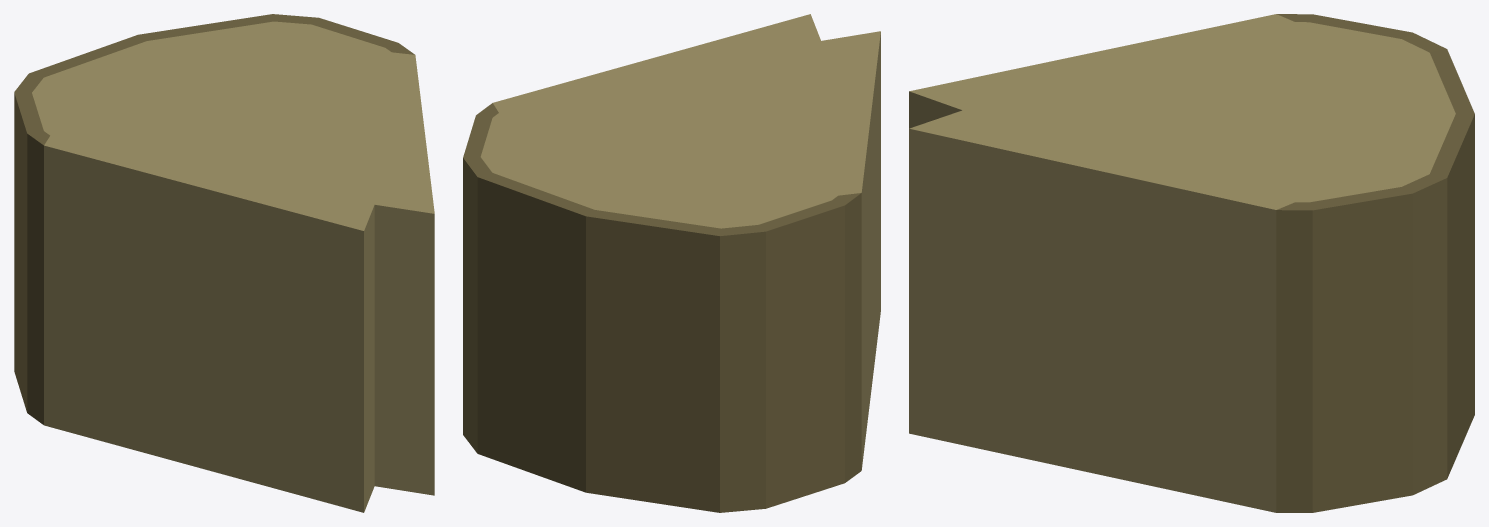
File: Trunk.fbx
3 views of the same model, side by side, from view 1: azimuth 30°, elevation 25°; view 2: azimuth 150°, elevation 25°; view 3: azimuth 270°, elevation 25° (orthographic). The views are drawn at different scales.
Visible parts, largest first — view 1: Trunk; view 2: Trunk; view 3: Trunk.
Part boxes in pixels (x1,y1,x2,y2): Trunk: (14,14,434,512); Trunk: (463,14,880,512); Trunk: (909,14,1474,512).
Bounding box in the file's own units: 41.2 × 29.87 × 50.24.
